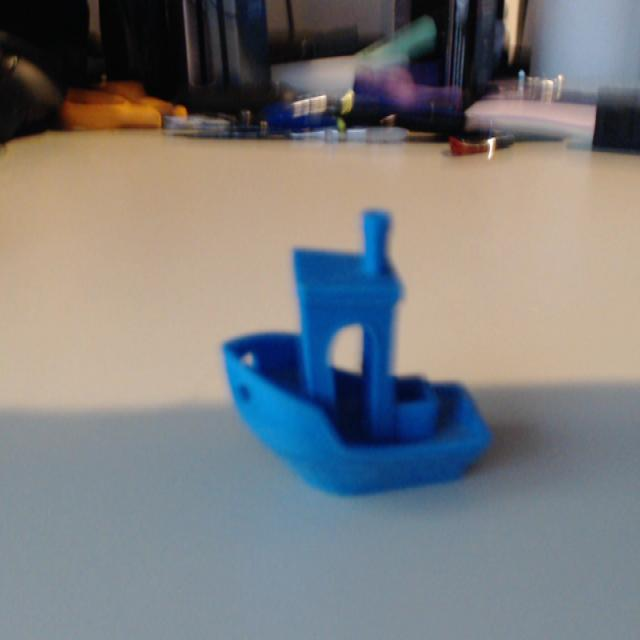benchy: (217, 204, 495, 499)
